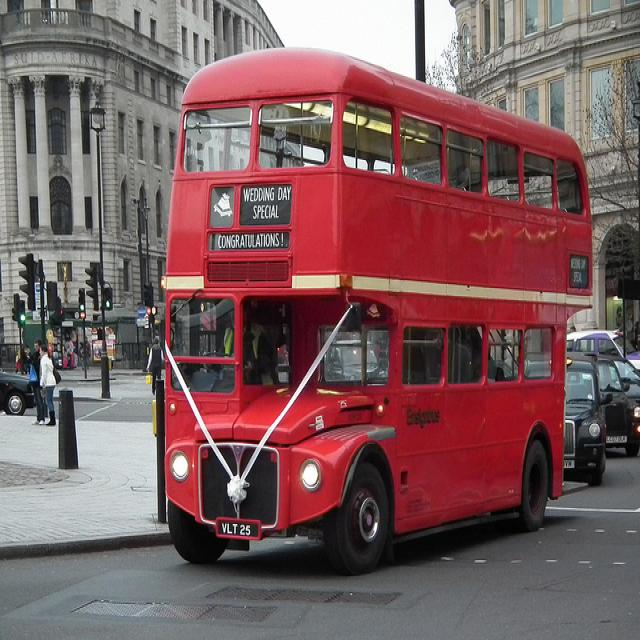Vehicle: (165, 50, 598, 571), (567, 350, 640, 457), (564, 356, 615, 486), (565, 328, 640, 371), (605, 354, 640, 403), (2, 373, 36, 416)
